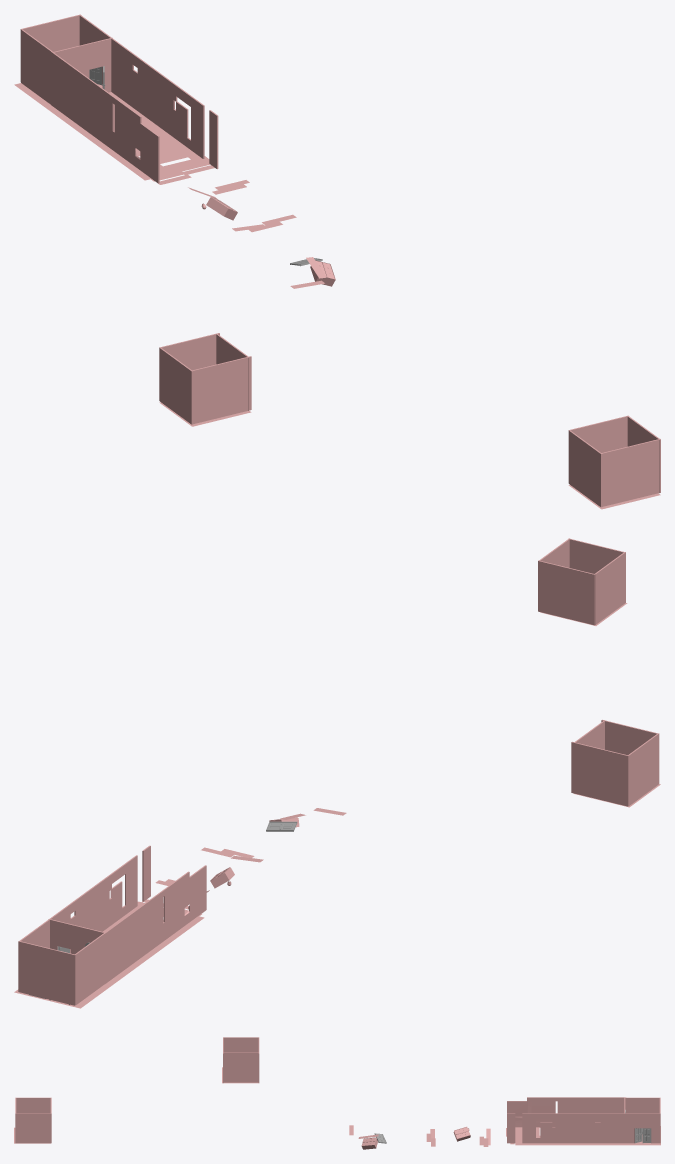
File: maptest3.fbx
3 views of the same model, one above another, from view 1: azimuth 30°, elevation 25°; view 2: azimuth 150°, elevation 25°; view 3: azimuth 270°, elevation 25° (orthographic). The views are drawn at different scales.
Visible parts, largest first — view 1: pCube15, pCube14, pCube13, pCube9, pPlane2, pCube7, pCube10, pCube2, pCube5, pCube6, pCube3, pCube11; view 2: pCube15, pCube14, pCube3, pCube11, pCube6, pCube10, pCube7, pCube2, pCube9, pPlane2, pCube13, pCube5; view 3: pCube14, pCube15, pCube12, pCube8, pCube4, pPlane2, pCube7, pCube2, pCube10.
Part boxes in pixels (x1,y1,x2,y2): pCube15: (51, 51, 159, 183); pCube14: (111, 38, 218, 169); pCube13: (192, 356, 251, 424); pCube9: (601, 439, 660, 506); pPlane2: (14, 83, 209, 180); pCube7: (569, 430, 602, 507); pCube10: (159, 348, 192, 424); pCube2: (21, 29, 53, 104); pCube5: (53, 37, 112, 92); pCube6: (568, 415, 628, 483); pCube3: (20, 14, 80, 81); pCube11: (159, 333, 219, 400); pCube15: (104, 865, 206, 983); pCube14: (49, 845, 150, 953); pCube3: (18, 941, 75, 1005); pCube11: (571, 741, 628, 806); pCube6: (538, 560, 595, 625); pCube10: (628, 733, 659, 805); pCube7: (595, 552, 625, 624); pCube2: (75, 932, 105, 1004); pCube9: (568, 538, 624, 573); pPlane2: (14, 901, 204, 1008); pCube13: (601, 719, 657, 755); pCube5: (48, 919, 104, 954); pCube14: (507, 1113, 626, 1143); pCube15: (507, 1097, 625, 1127); pCube12: (223, 1052, 258, 1082); pCube8: (15, 1113, 50, 1143); pCube4: (625, 1113, 659, 1143); pPlane2: (515, 1126, 660, 1145); pCube7: (15, 1097, 50, 1113); pCube2: (624, 1097, 659, 1113); pCube10: (223, 1037, 258, 1052).
Size of the model in its own units: 208 by 49.19 by 715.
